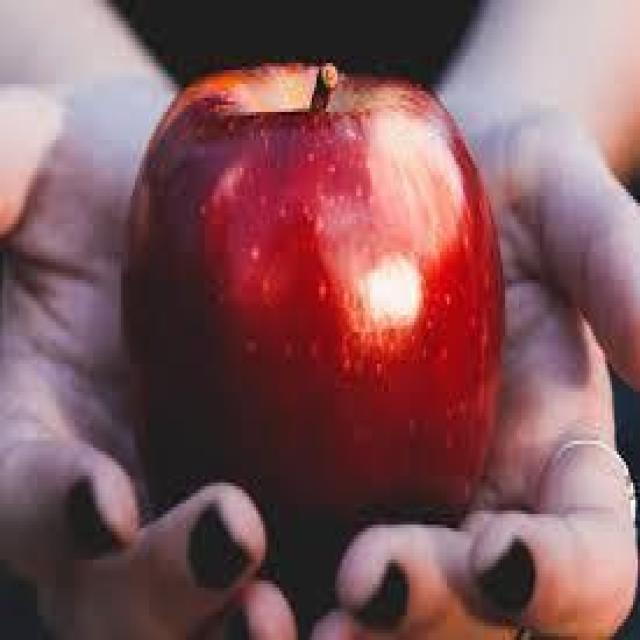maca: (119, 56, 505, 521)
